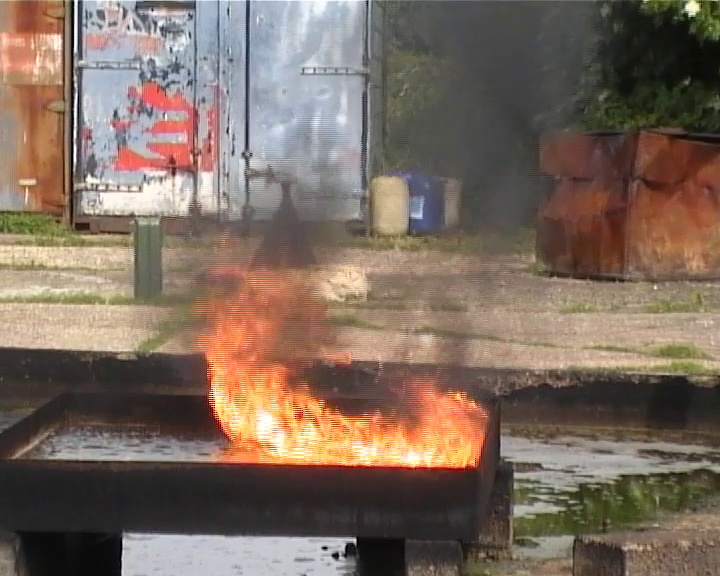fire: (203, 306, 483, 467)
